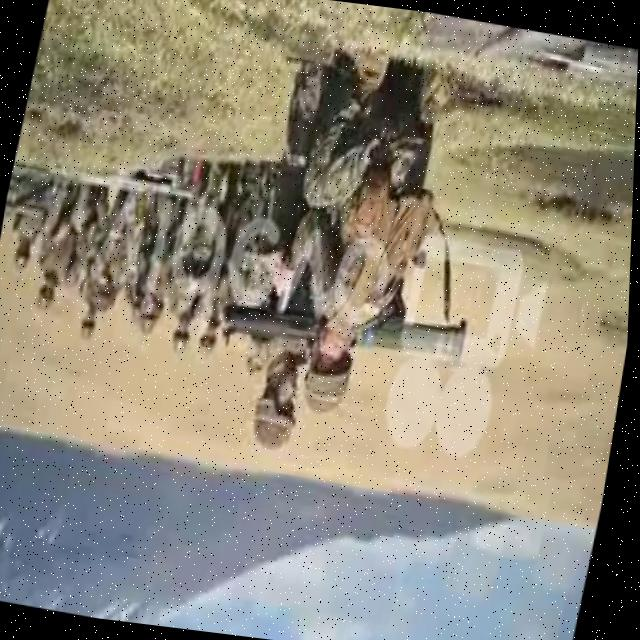rocket: (212, 276, 471, 374)
